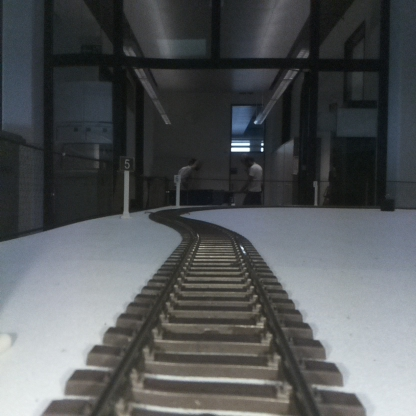black-info-3: (120, 156, 133, 216)
